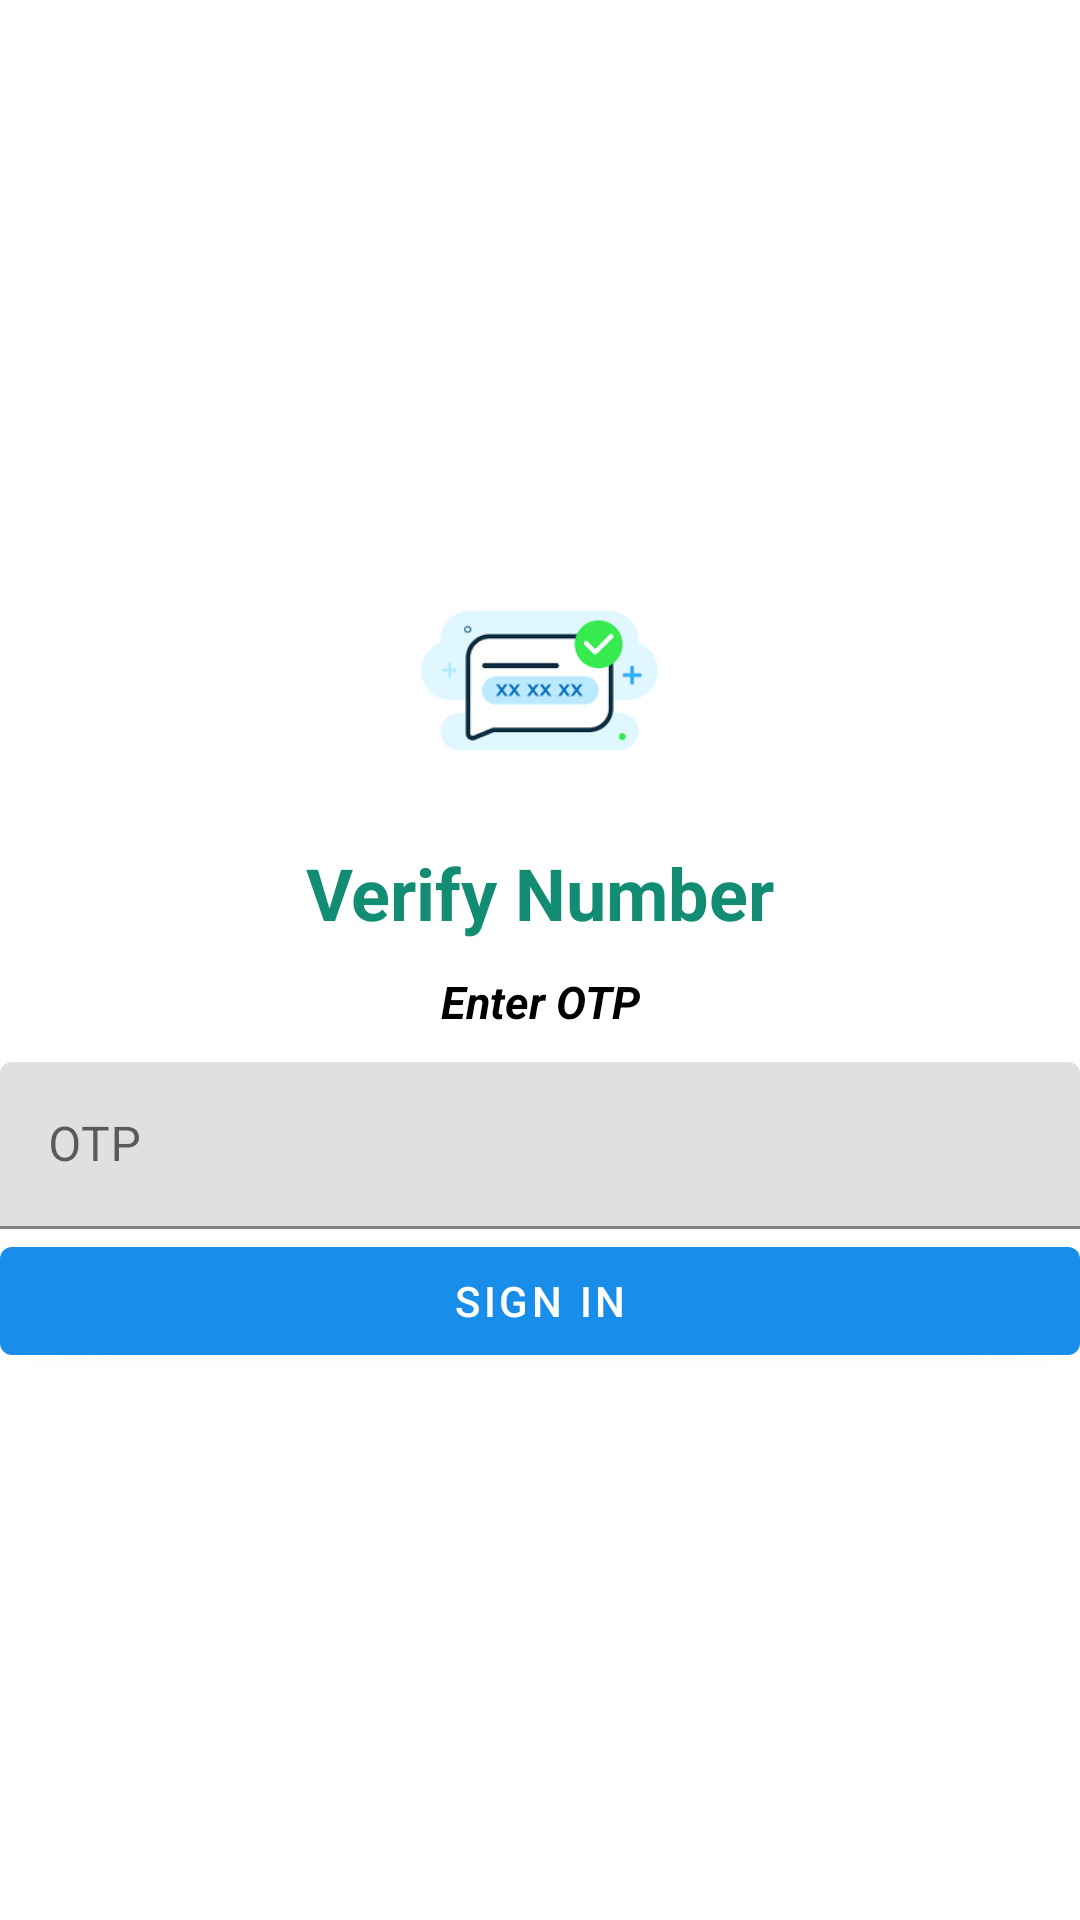

Named icons in this screenshot (1080×1920) and their centers, (x,y):
otp: (539,680)
